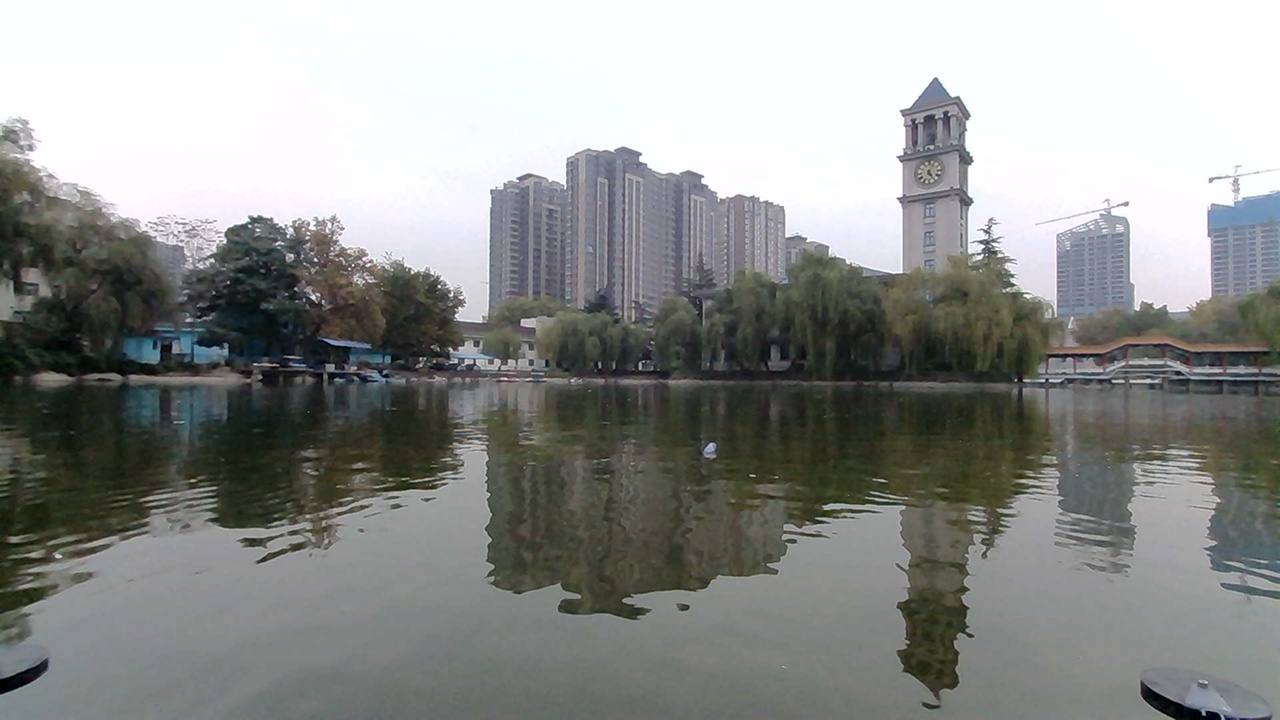bottle: (687, 436, 736, 468)
